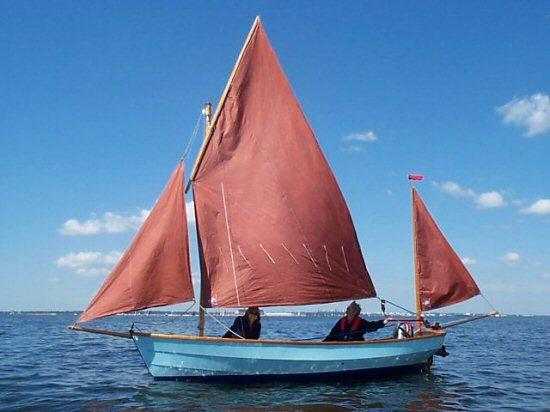Ship: (72, 10, 497, 384)
